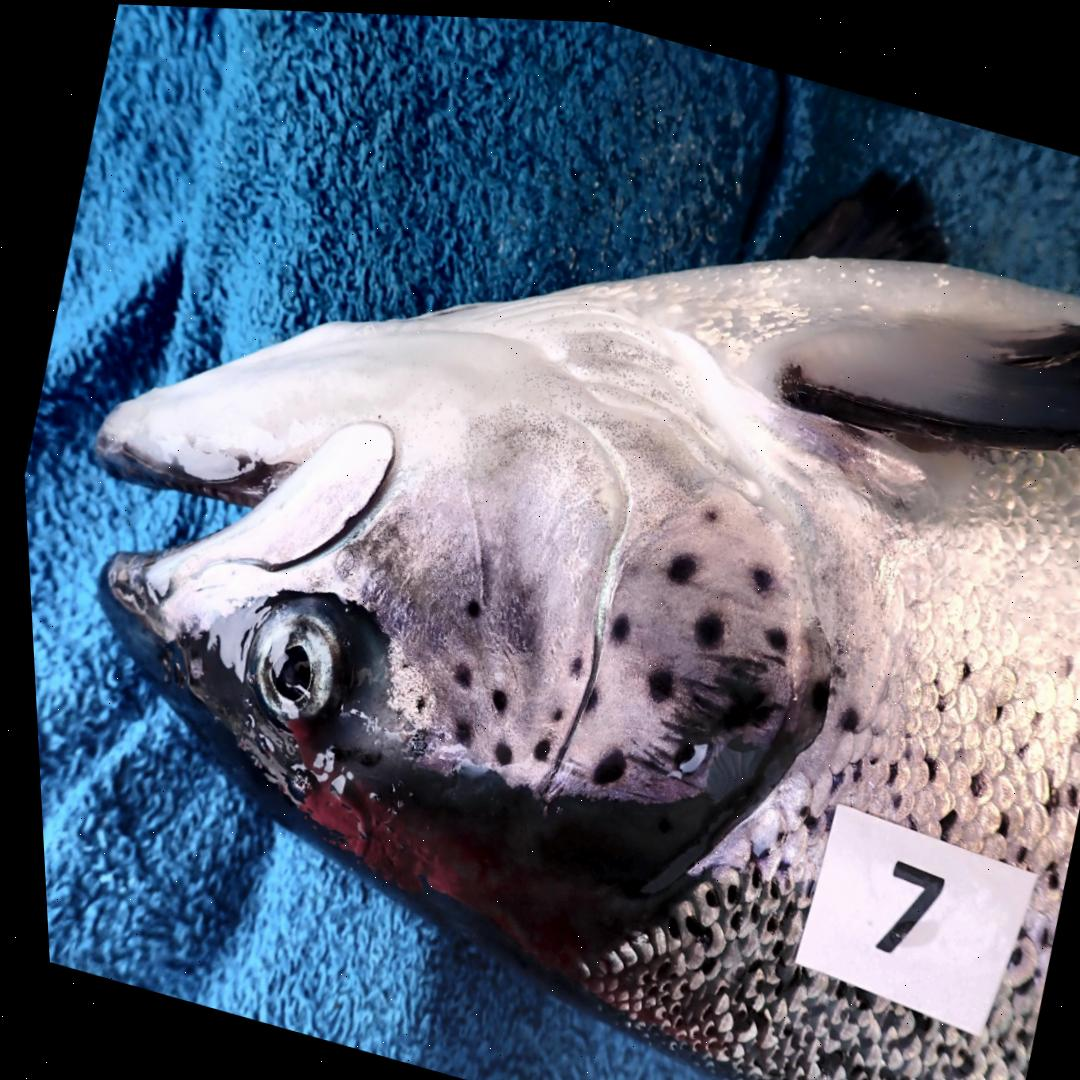spot: (584, 744, 618, 781), (667, 737, 698, 773), (687, 608, 717, 643), (640, 662, 665, 696), (661, 549, 689, 579), (445, 714, 465, 745), (576, 678, 594, 710), (746, 562, 768, 587), (399, 726, 419, 752), (603, 610, 622, 637), (758, 622, 780, 645), (485, 738, 504, 761), (525, 733, 543, 757), (446, 660, 464, 683), (484, 685, 500, 709), (563, 648, 577, 674), (460, 596, 473, 614), (698, 502, 712, 517), (408, 690, 419, 709), (544, 703, 555, 717)
